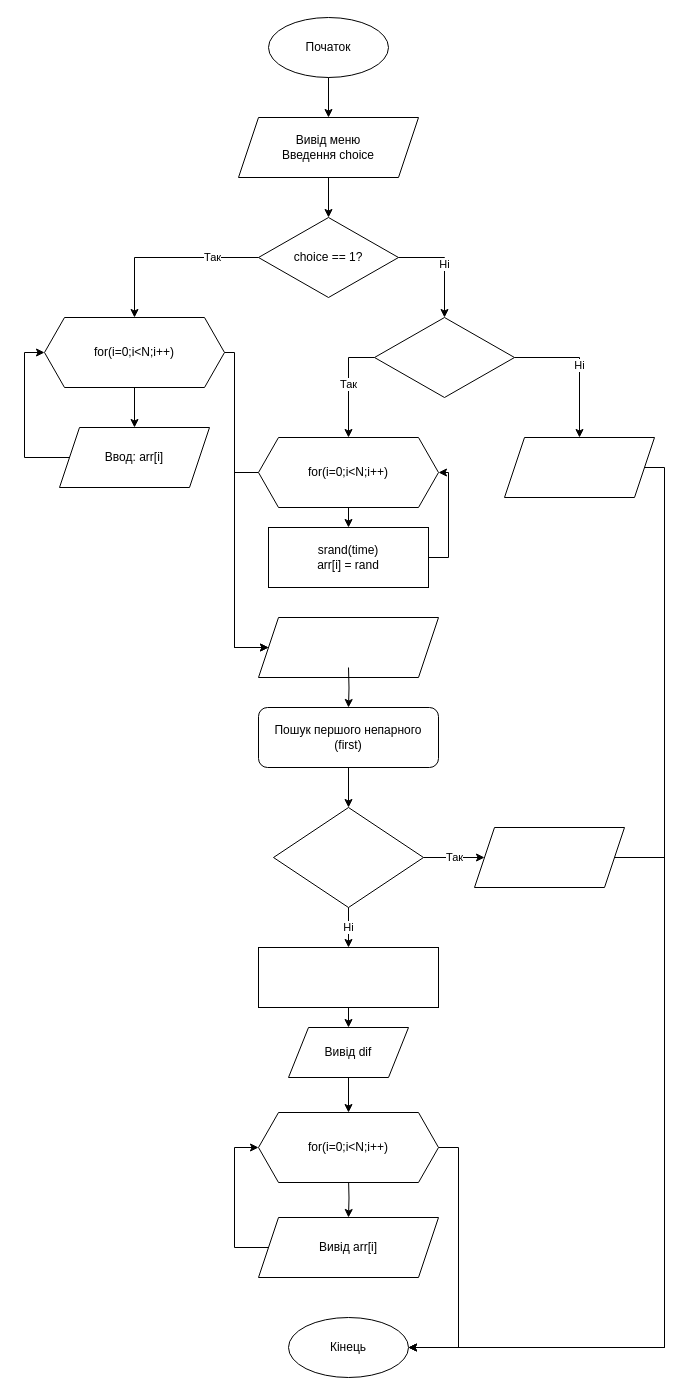
Image size: 690x1395. Some labels were removed from this diagram. Each missing label, with the centre of its shape:
"choice == 2?" belongs at (x=444, y=357).
"first == -1 (Не знайдено)?" belongs at (x=348, y=857).
"Вивід масиву" belongs at (x=348, y=647).
"Вивід: Error!" belongs at (x=579, y=467).
"Вивід: Не знайдено!" belongs at (x=549, y=857).
"Пошук останнього непарного (last) dif = first - last" belongs at (x=348, y=977).
